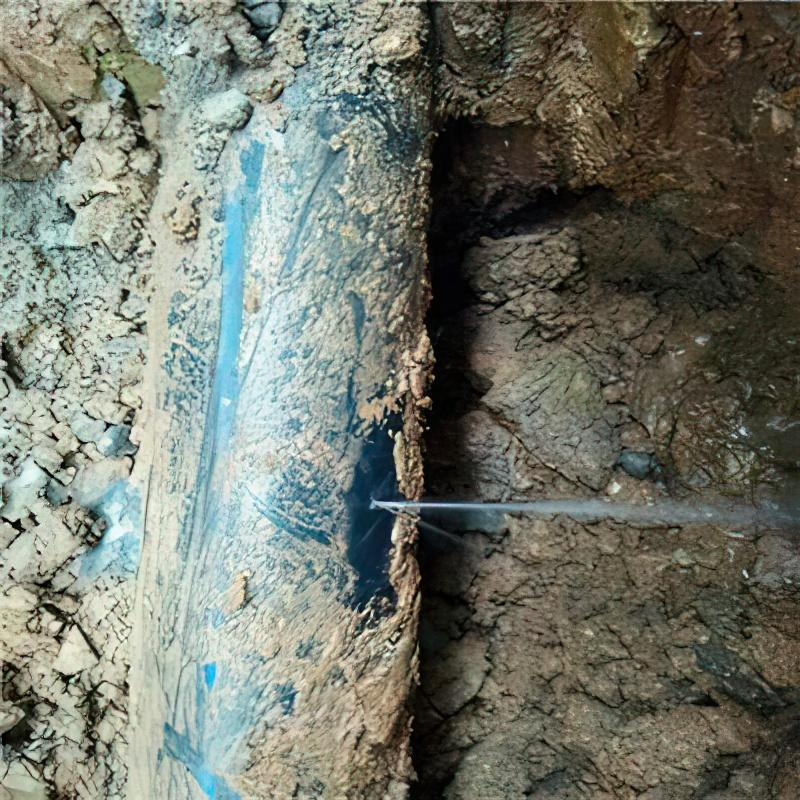pipe burst: (358, 493, 800, 522)
